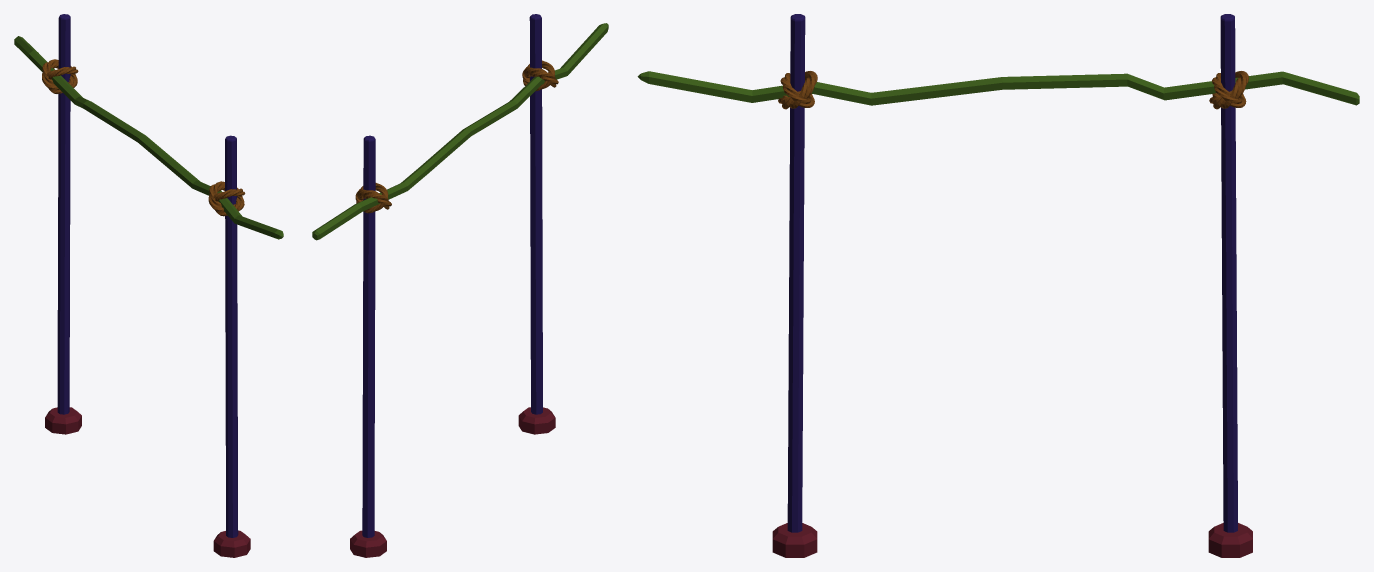
The model's file is MESH_Support.fbx.
The picture shows the model from 3 angles, left to right: view 1: azimuth 30°, elevation 25°; view 2: azimuth 150°, elevation 25°; view 3: azimuth 270°, elevation 25°; orthographic projection. The views are drawn at different scales.
Visible parts, largest first — view 1: MESH_Support; view 2: MESH_Support; view 3: MESH_Support.
Boxes of the visible parts, <box> form: MESH_Support: <box>14,14,283,557</box>; MESH_Support: <box>312,14,608,557</box>; MESH_Support: <box>637,14,1359,557</box>.
Size of the model in its own units: 0.1379 by 1.51 by 1.86.
